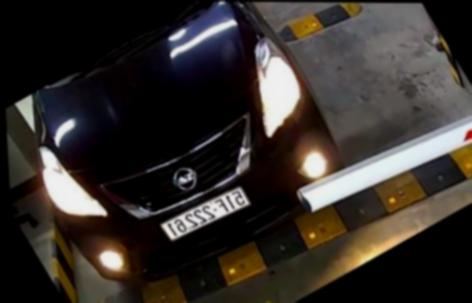License_Plate: (145, 184, 255, 242)
